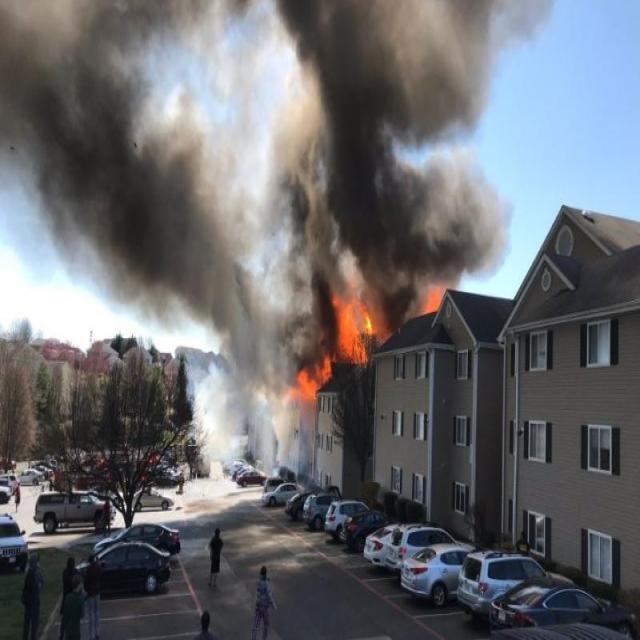Fire: (294, 288, 376, 402), (421, 282, 444, 315)
Smoke: (1, 1, 550, 502)
